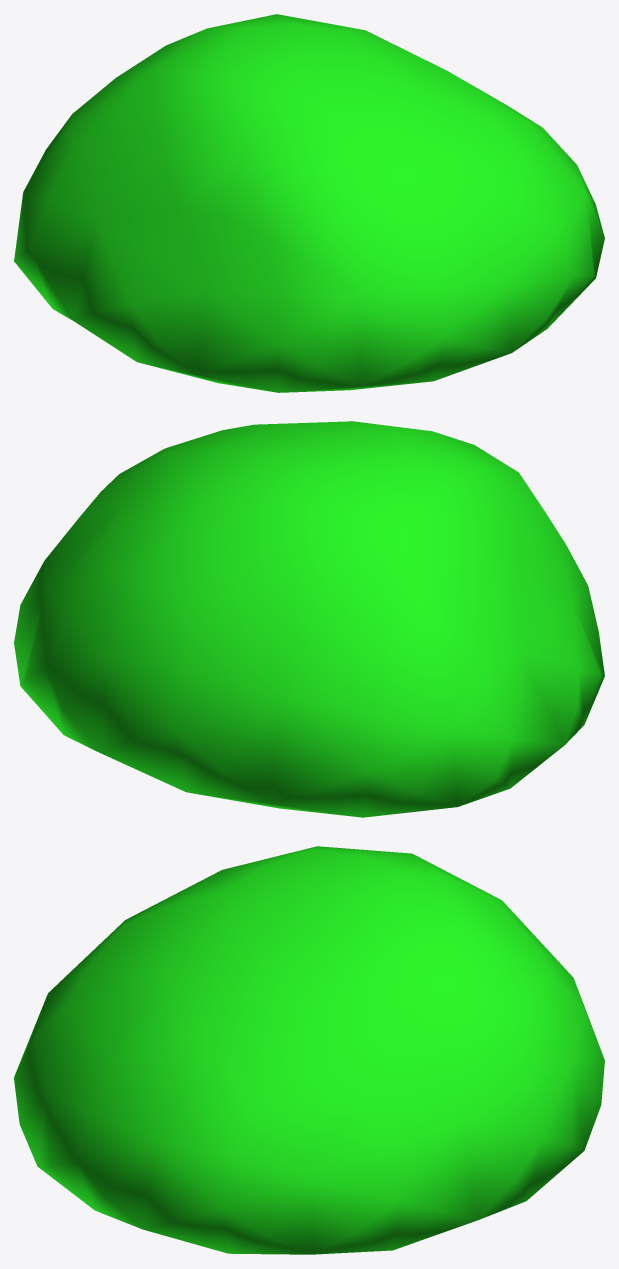
File: SM_Bush_1.fbx
3 renders of one model, top to bottom at view 1: azimuth 30°, elevation 25°; view 2: azimuth 150°, elevation 25°; view 3: azimuth 270°, elevation 25°, orthographic. The views are drawn at different scales.
Visible parts, largest first — view 1: Bush_Mash; view 2: Bush_Mash; view 3: Bush_Mash.
Boxes of the visible parts, box(x1,y1,x2,y2) form: Bush_Mash: box(14, 14, 604, 392); Bush_Mash: box(14, 421, 604, 817); Bush_Mash: box(14, 846, 604, 1254).
Bounding box in the file's own units: 1.08 × 0.5772 × 1.08.
